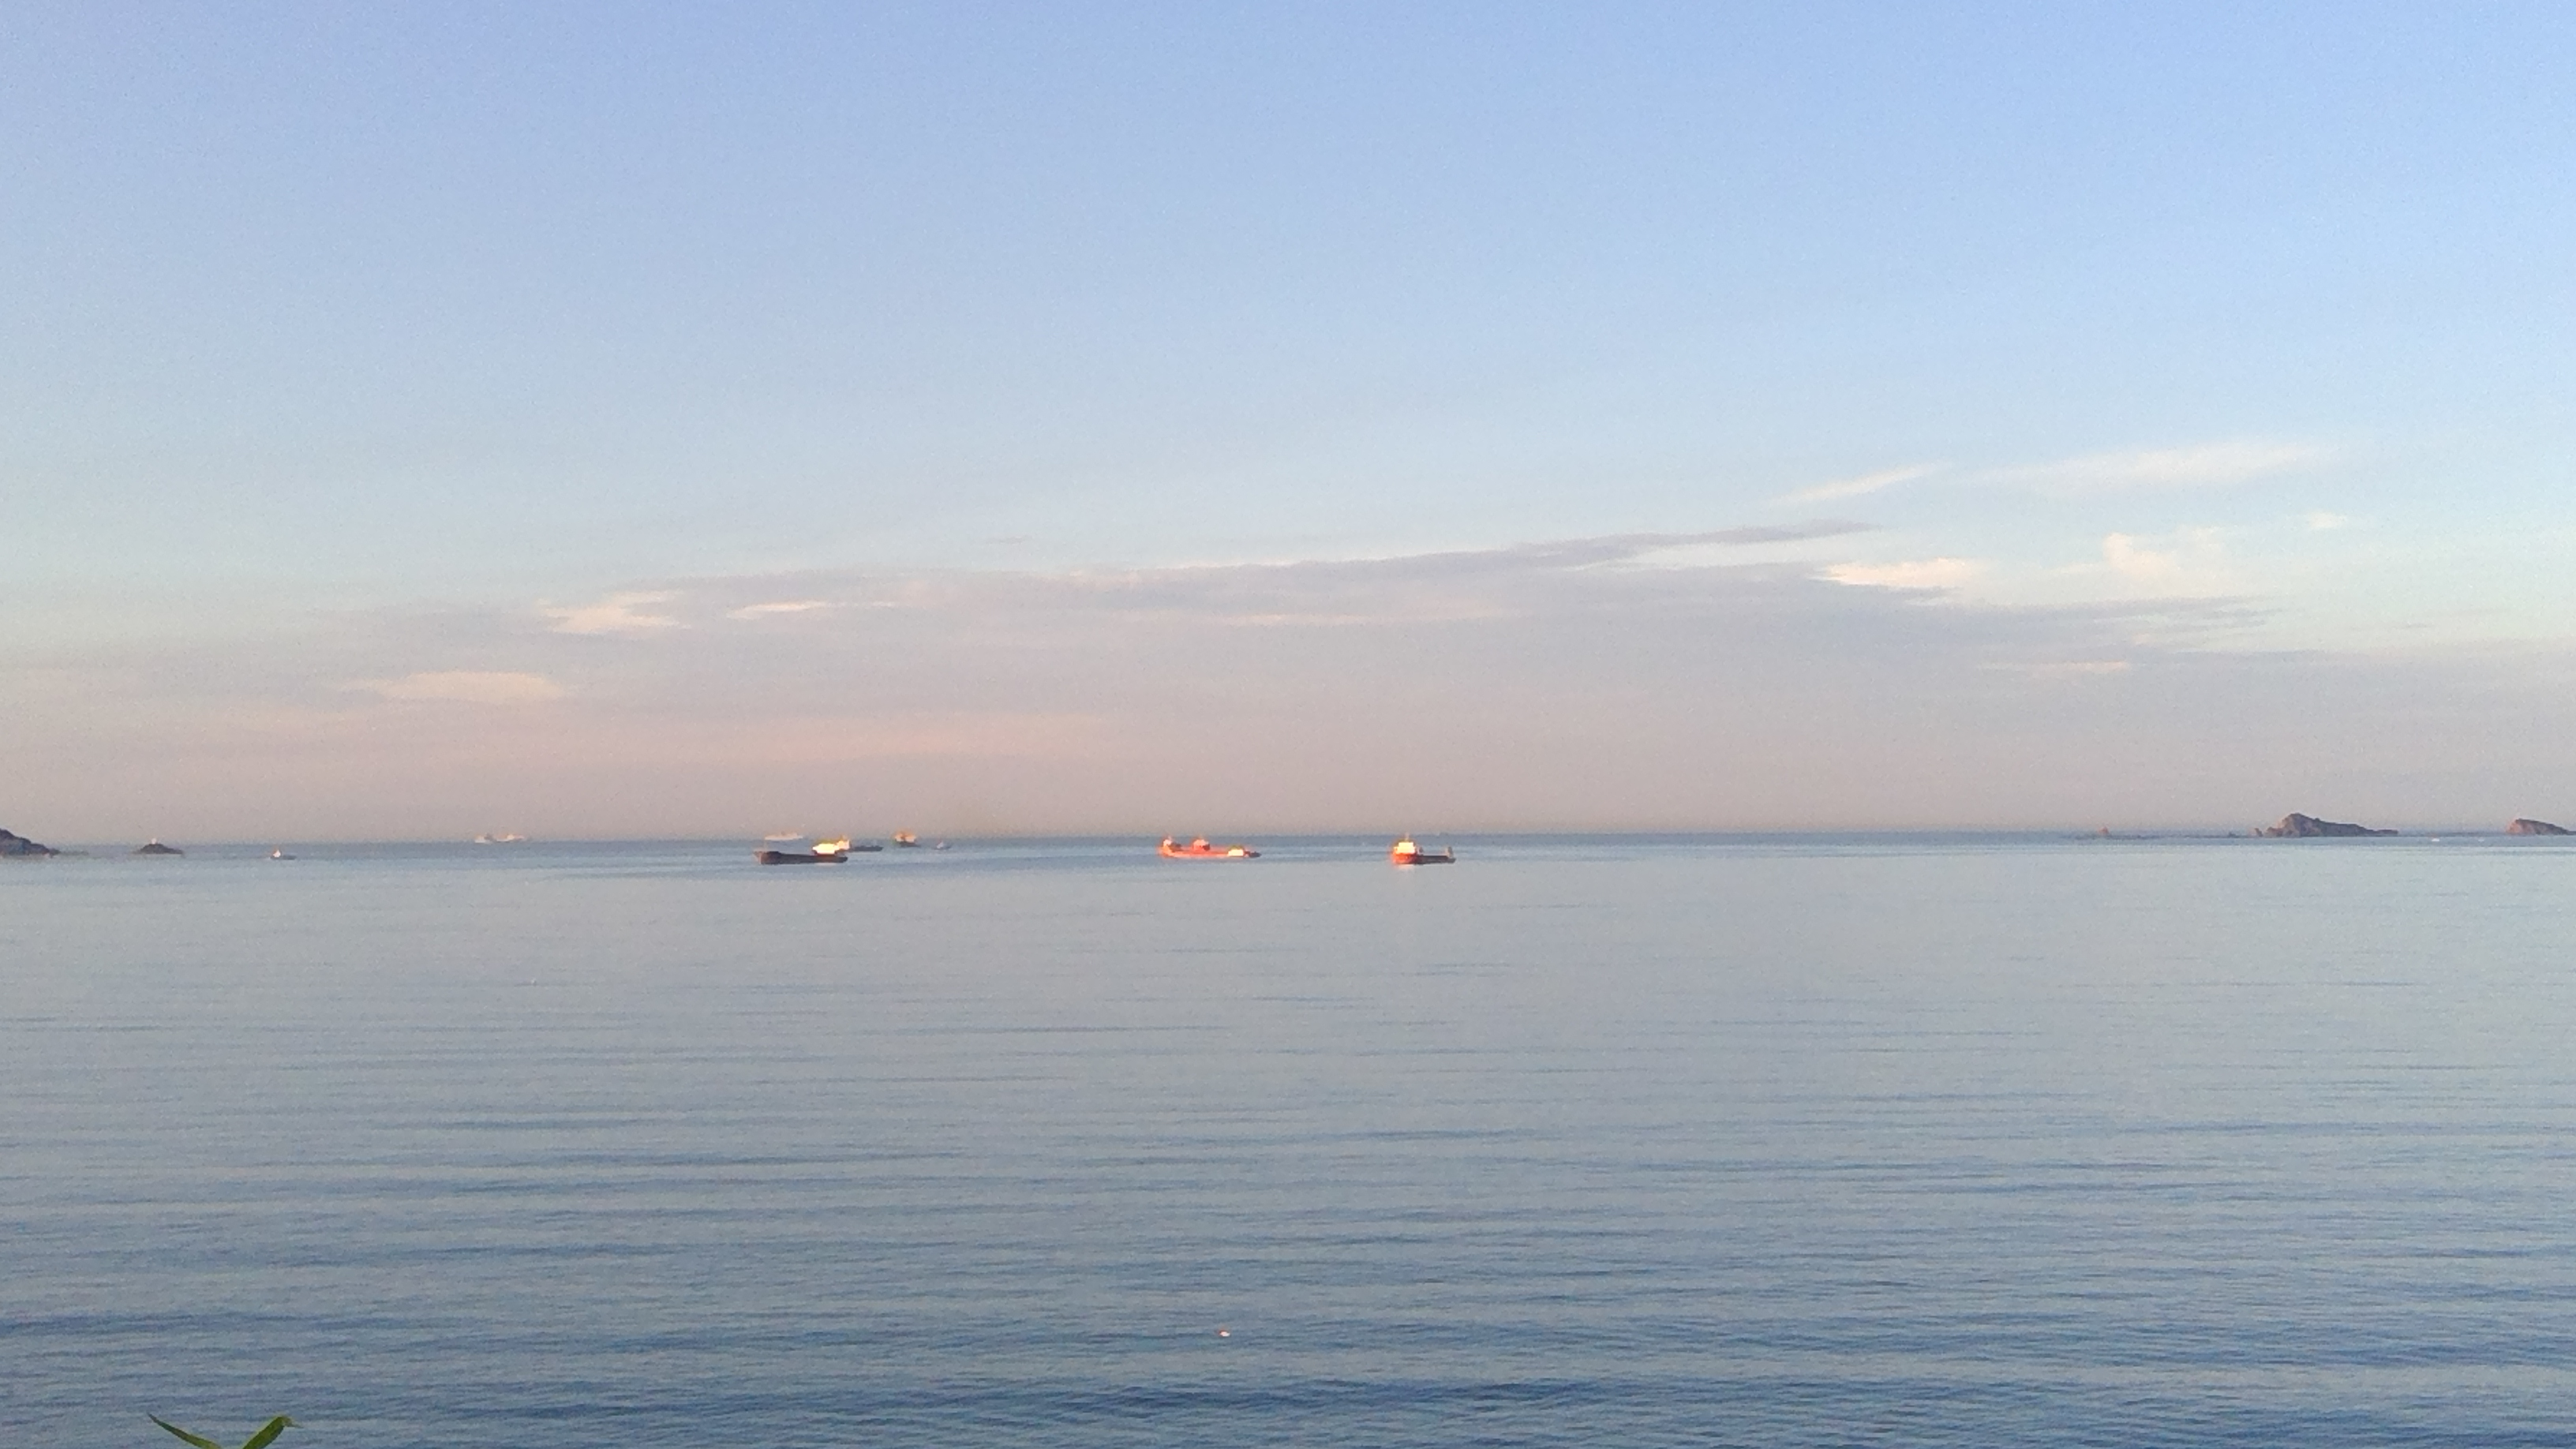rock: (2242, 803, 2410, 842), (2, 819, 67, 865), (2509, 809, 2576, 847), (133, 835, 188, 862)
ship: (1148, 828, 1270, 867), (750, 839, 858, 878), (1384, 826, 1470, 870)
